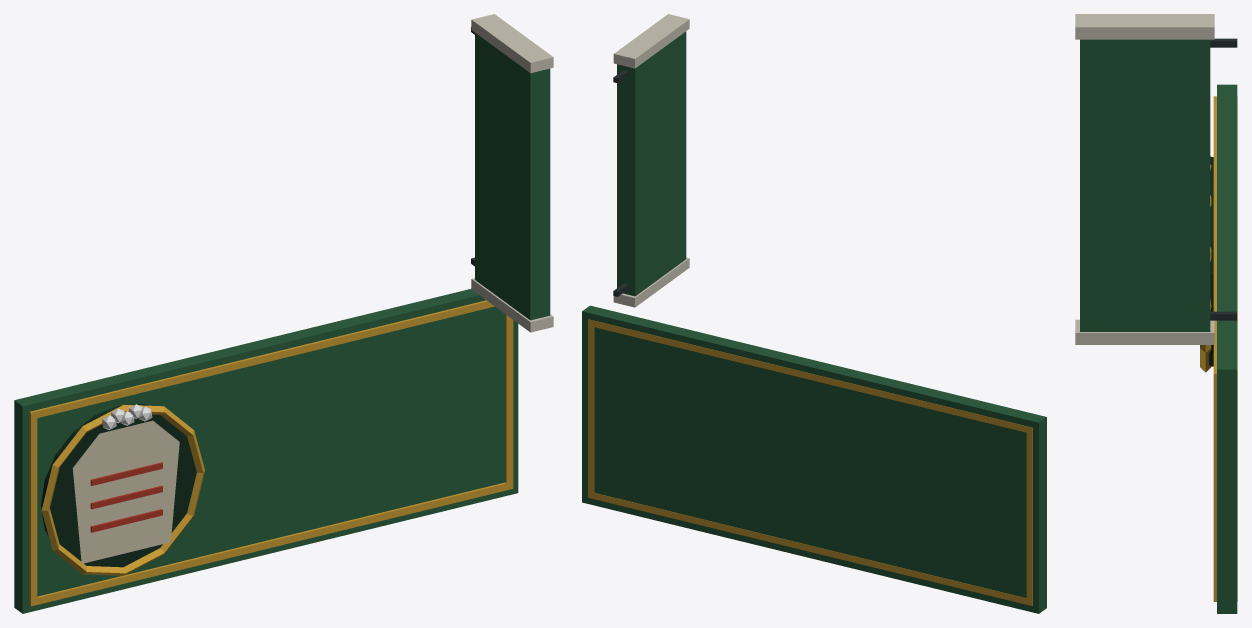
The model's file is bang_tap_hoa_thu_ha_32.glb.
3 views of the same model, side by side, from view 1: azimuth 30°, elevation 25°; view 2: azimuth 150°, elevation 25°; view 3: azimuth 270°, elevation 25° (orthographic). The views are drawn at different scales.
Parts seen in each view (by area): view 1: bang_tap_hoa_thu_ha_32; view 2: bang_tap_hoa_thu_ha_32; view 3: bang_tap_hoa_thu_ha_32.
Boxes of the visible parts, x1,y1,x2,y2 form: bang_tap_hoa_thu_ha_32: (14,14,553,613); bang_tap_hoa_thu_ha_32: (582,14,1046,613); bang_tap_hoa_thu_ha_32: (1075,14,1237,613).
Bounding box in the file's own units: 3 × 2.81 × 0.722.
